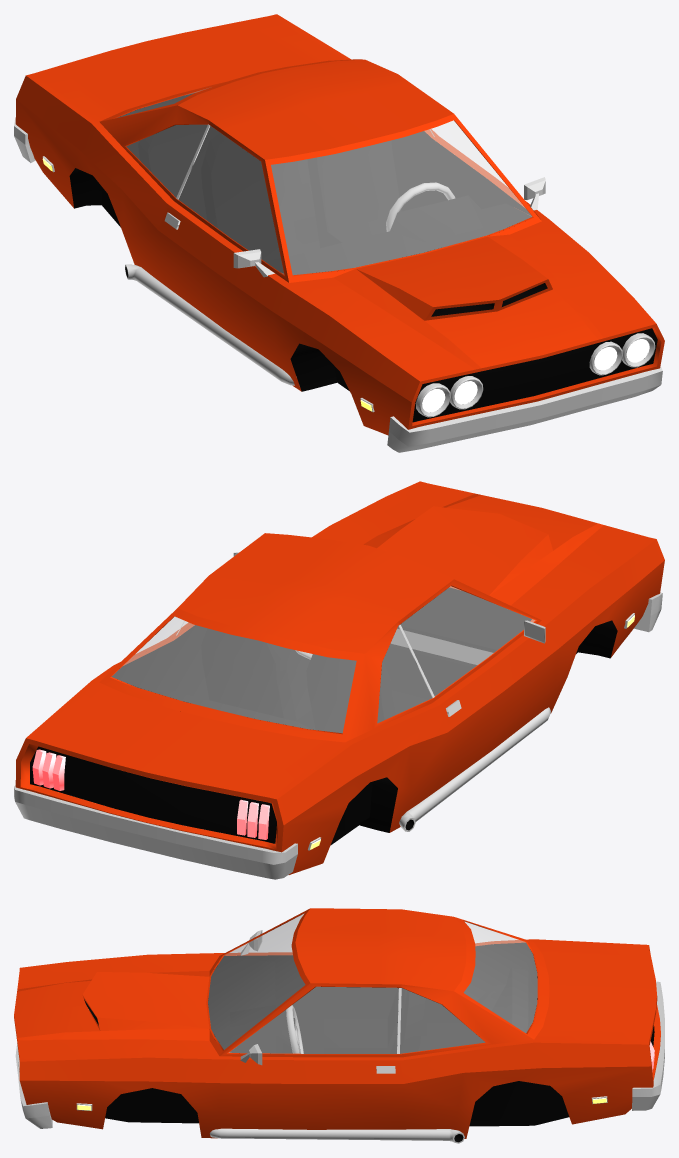
The model's file is muscle-car-transformed.glb.
3 views of the same model, one above another, from view 1: azimuth 30°, elevation 25°; view 2: azimuth 150°, elevation 25°; view 3: azimuth 270°, elevation 25° (orthographic). The views are drawn at different scales.
Visible parts, largest first — view 1: Cube; view 2: Cube; view 3: Cube.
Part boxes in pixels (left/top/right/bottom): Cube: left=14, top=14, right=664, bottom=452; Cube: left=14, top=481, right=664, bottom=879; Cube: left=14, top=908, right=664, bottom=1143.
Size of the model in its own units: 2.02 by 1.12 by 4.5.
